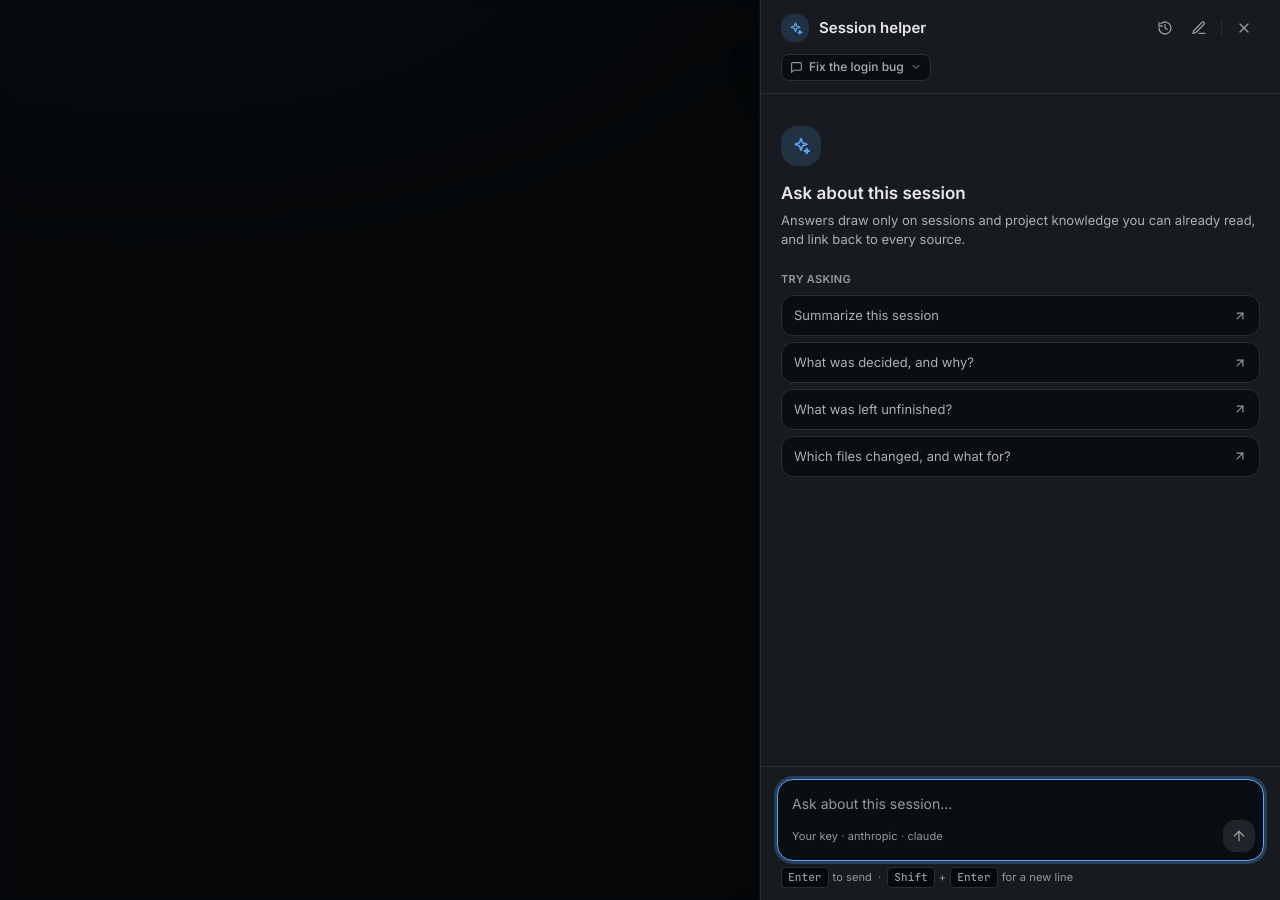
Test: HelperPanel — composer and keyboard › suggested prompts send immediately
Expected: the heading "Ask about this session" is shown, x1=781 y1=183 x2=966 y2=203
Click the button "Summarize this session": click(866, 315) x1=781 y1=295 x2=1260 y2=336
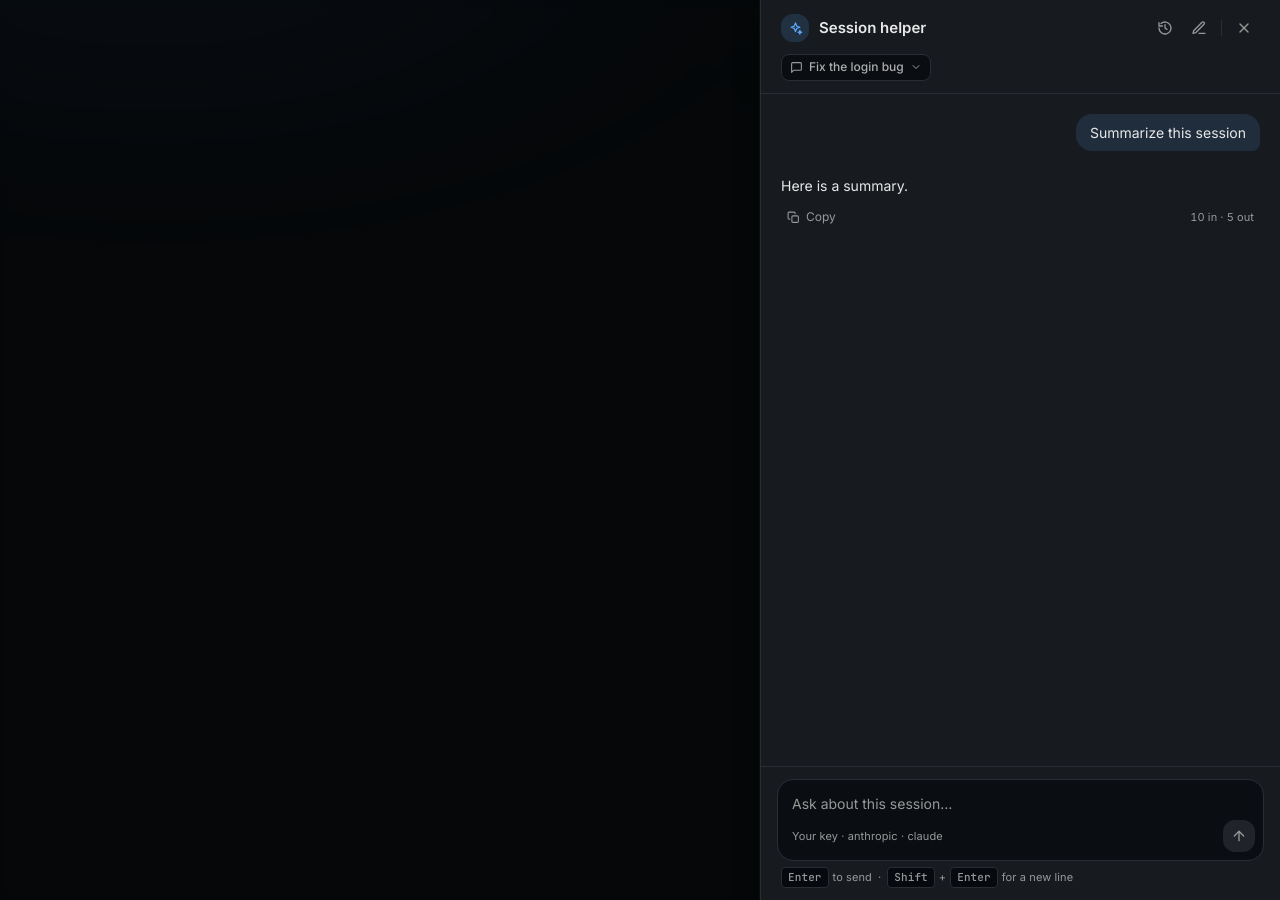
Expected: the text "Here is a summary." is shown, x1=781 y1=177 x2=908 y2=194
